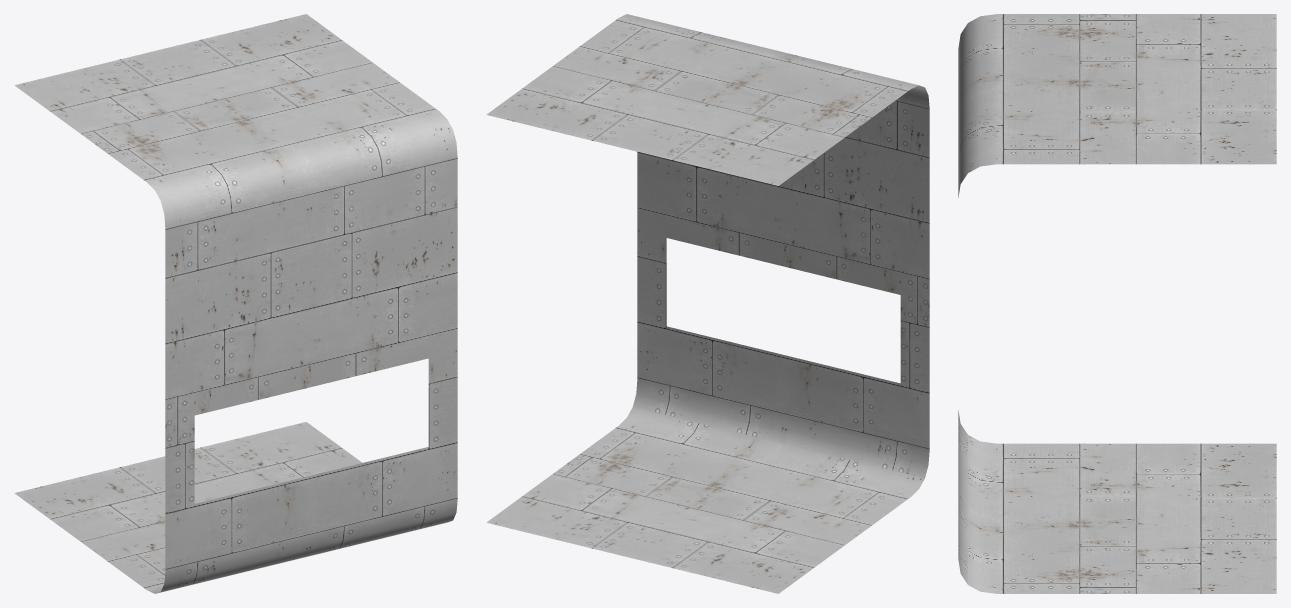
Rendered from StationHullWithWindow.fbx.
3 views of the same model, side by side, from view 1: azimuth 30°, elevation 25°; view 2: azimuth 150°, elevation 25°; view 3: azimuth 270°, elevation 25° (orthographic). The views are drawn at different scales.
Parts seen in each view (by area): view 1: StationHull_Window; view 2: StationHull_Window; view 3: StationHull_Window.
Boxes of the visible parts, bbox=[...] form: StationHull_Window: bbox=[14, 14, 457, 593]; StationHull_Window: bbox=[486, 14, 929, 593]; StationHull_Window: bbox=[958, 14, 1276, 593].
Bounding box in the file's own units: 900 × 1200 × 806.
